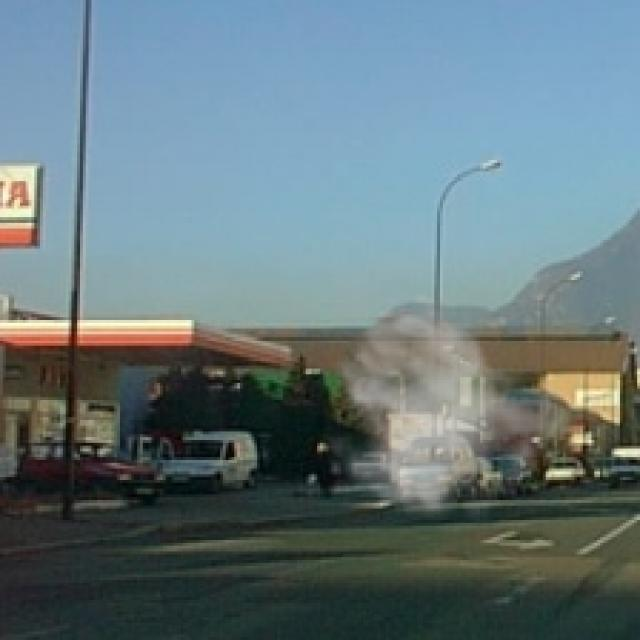smoke: (311, 288, 583, 526)
